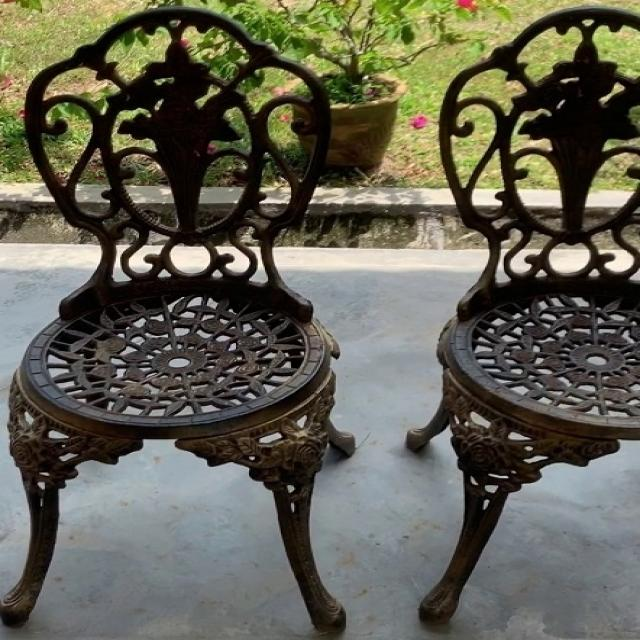Chair: (2, 9, 385, 636), (410, 2, 640, 640)
